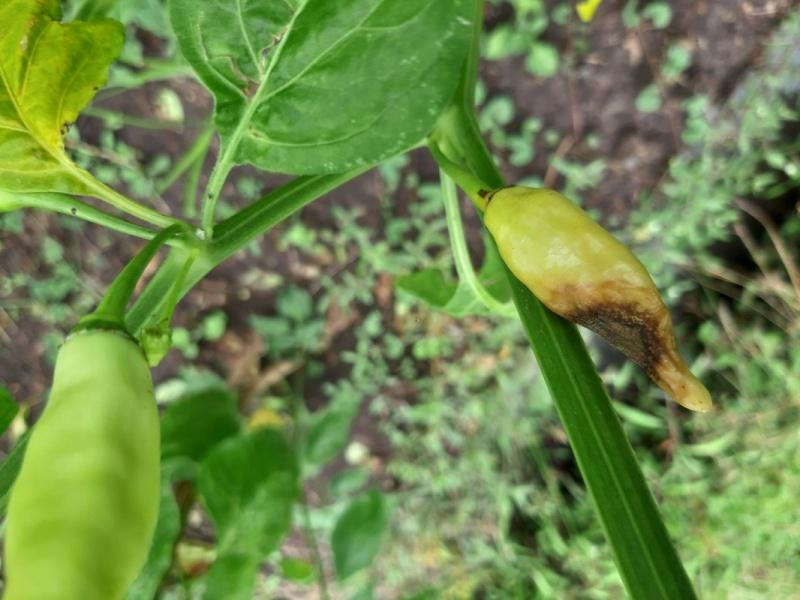antraknosa: (485, 186, 712, 414)
cabai_normal: (0, 334, 162, 599)
